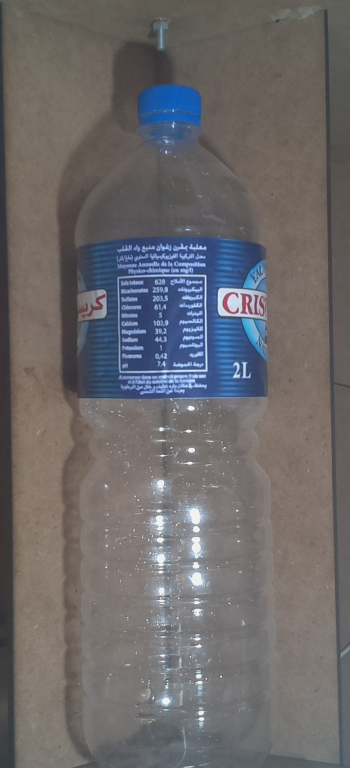Bouteille_2L: (64, 76, 286, 768)
